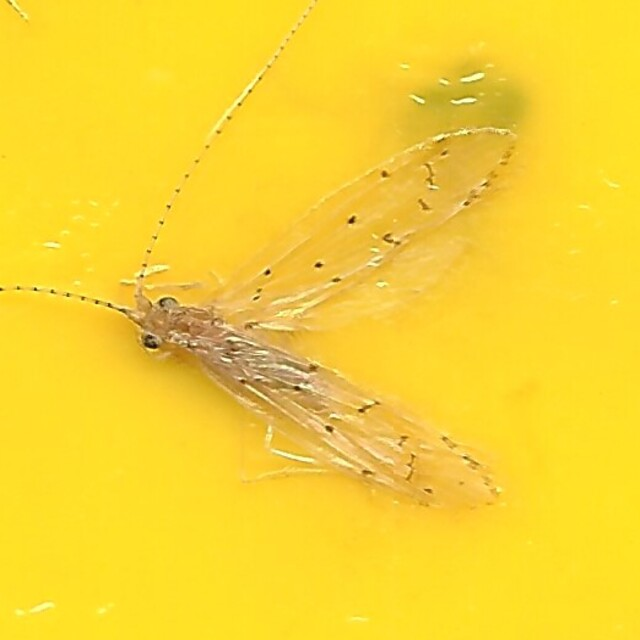Plecoptera: (123, 122, 517, 518)
